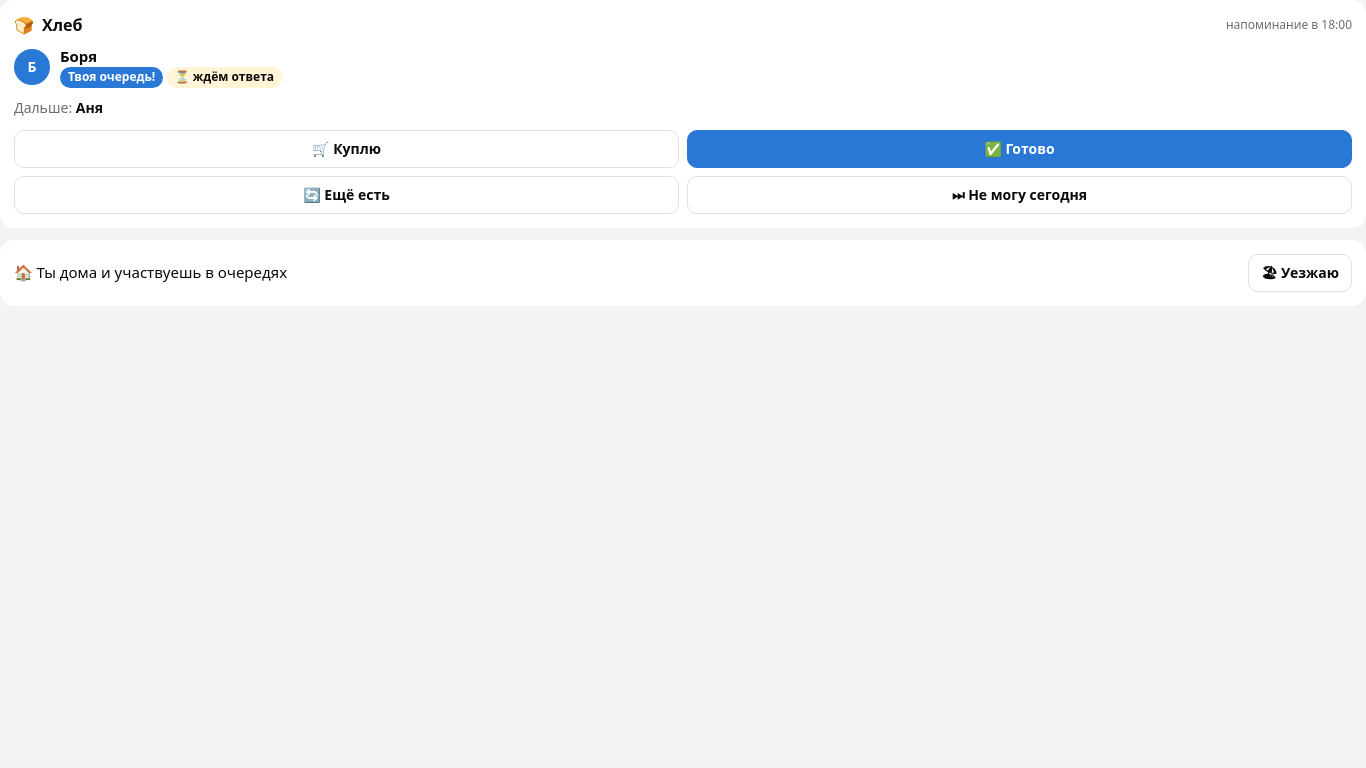
queue actions › marks the turn done with what it cost
Click the button "✅ Готово" at (1020, 149), box [687,130,1352,168]
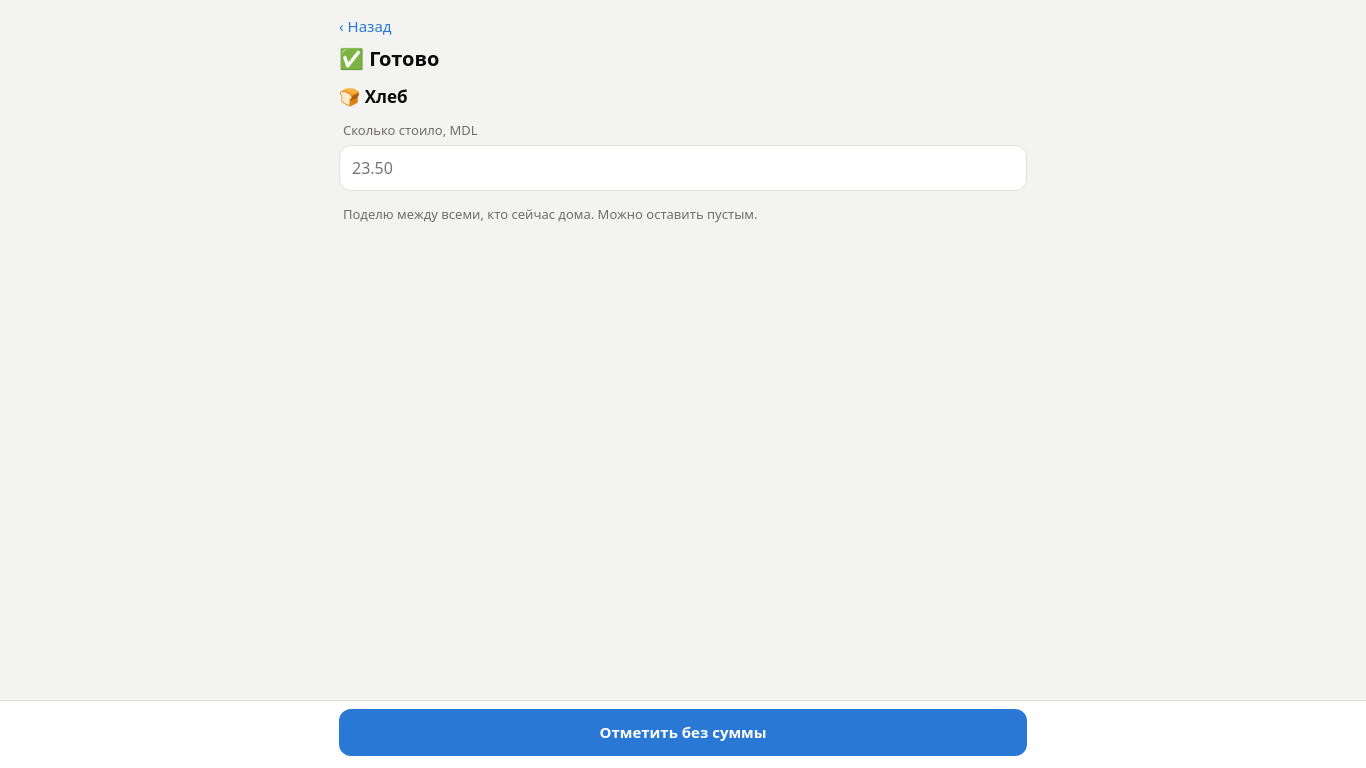
Check: the dialog "✅ Готово" is shown
Type "30" into the field labelled "Сколько стоило, MDL" at (683, 168), box [339,145,1027,191]
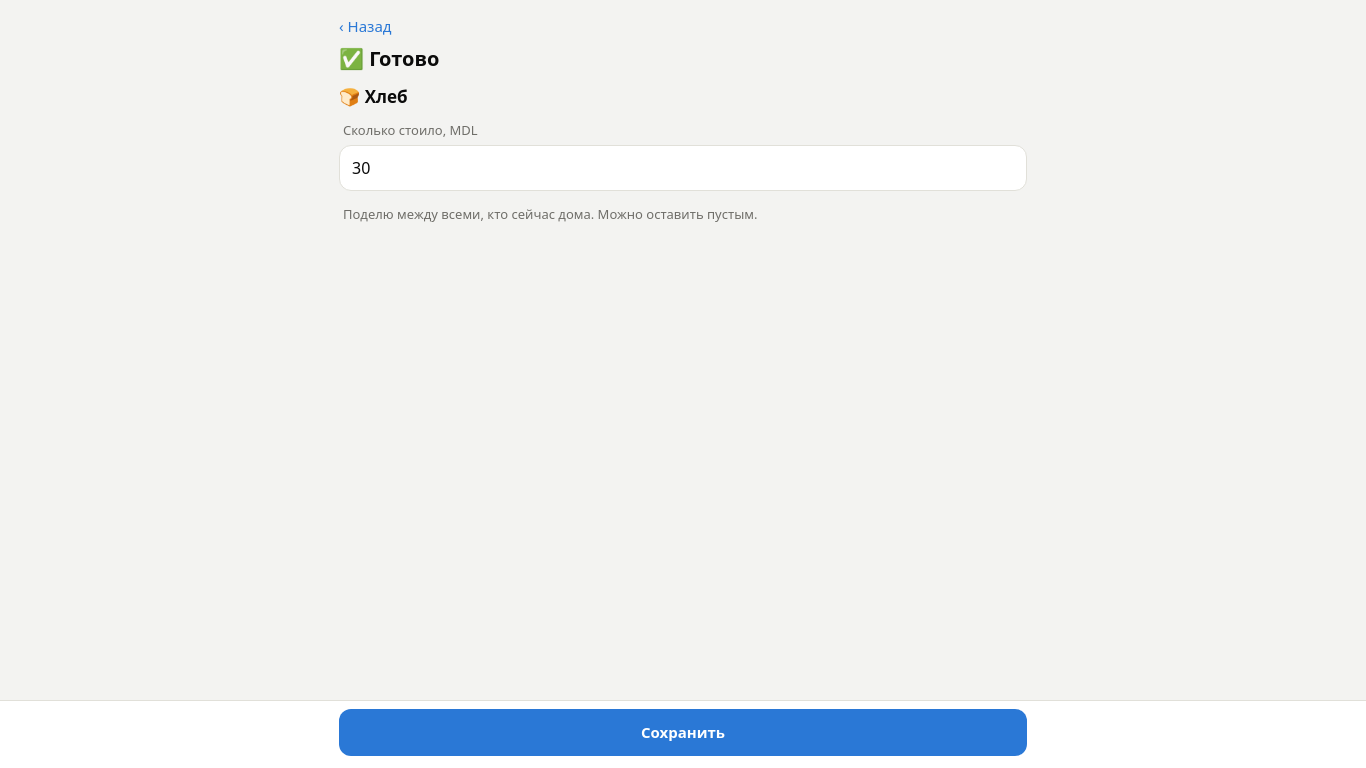
Click the button "Сохранить" at (683, 732), box [339,709,1027,756]
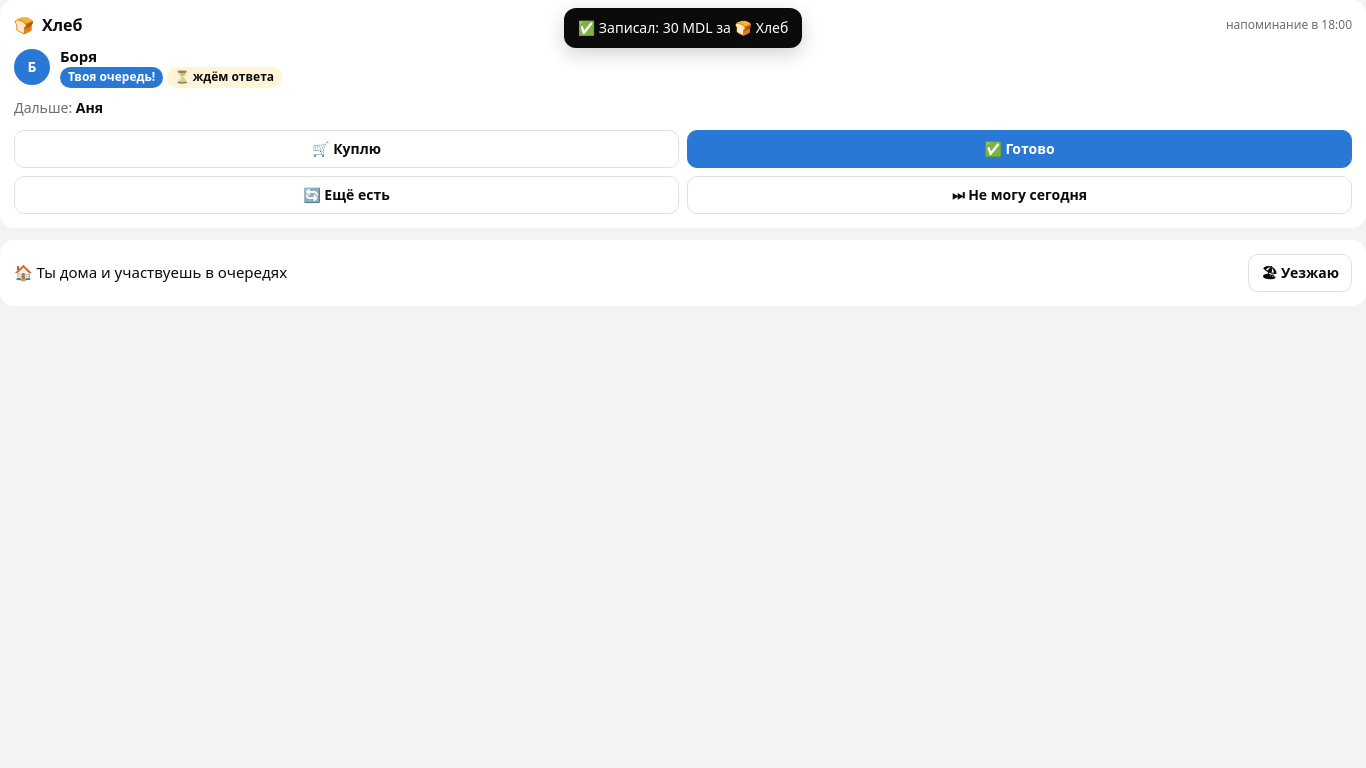
Check: the button "✅ Записал: 30 MDL за 🍞 Хлеб" is shown, box [564,8,802,48]
Check: the dialog is gone
